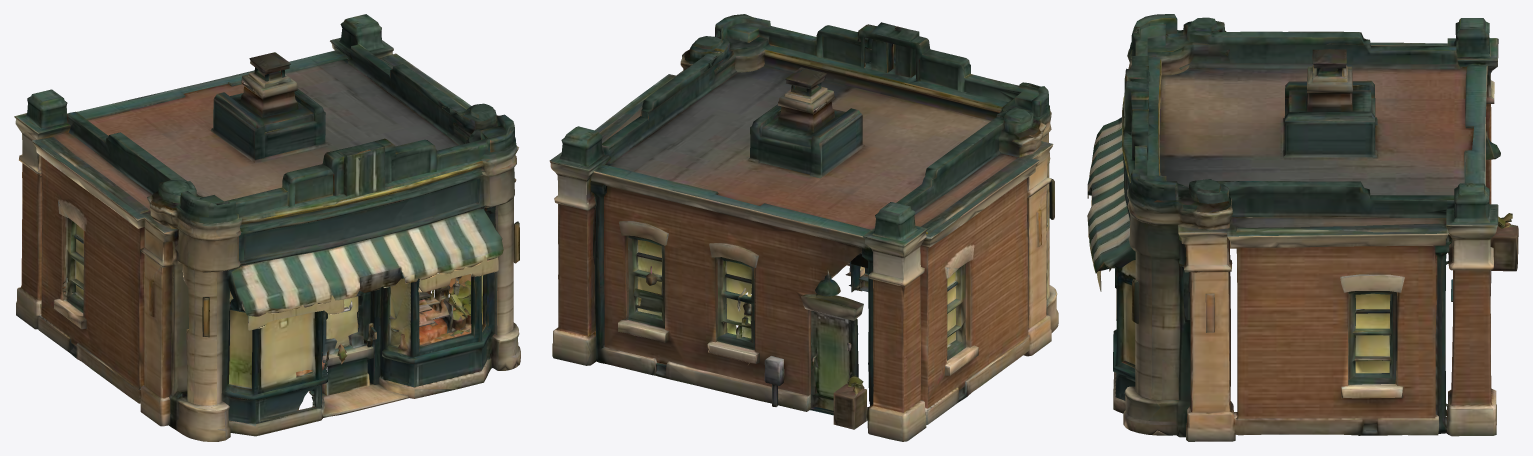
Rendered from candidate.glb.
3 views of the same model, side by side, from view 1: azimuth 30°, elevation 25°; view 2: azimuth 150°, elevation 25°; view 3: azimuth 270°, elevation 25° (orthographic). The views are drawn at different scales.
Visible parts, largest first — view 1: expansion__shop_1__native_mobile; view 2: expansion__shop_1__native_mobile; view 3: expansion__shop_1__native_mobile.
Part boxes in pixels (x1,y1,x2,y2): expansion__shop_1__native_mobile: (14, 14, 520, 441); expansion__shop_1__native_mobile: (549, 14, 1058, 441); expansion__shop_1__native_mobile: (1087, 14, 1518, 441).
Bounding box in the file's own units: 1 × 0.7318 × 0.9464.
1 material, 1 textured.
